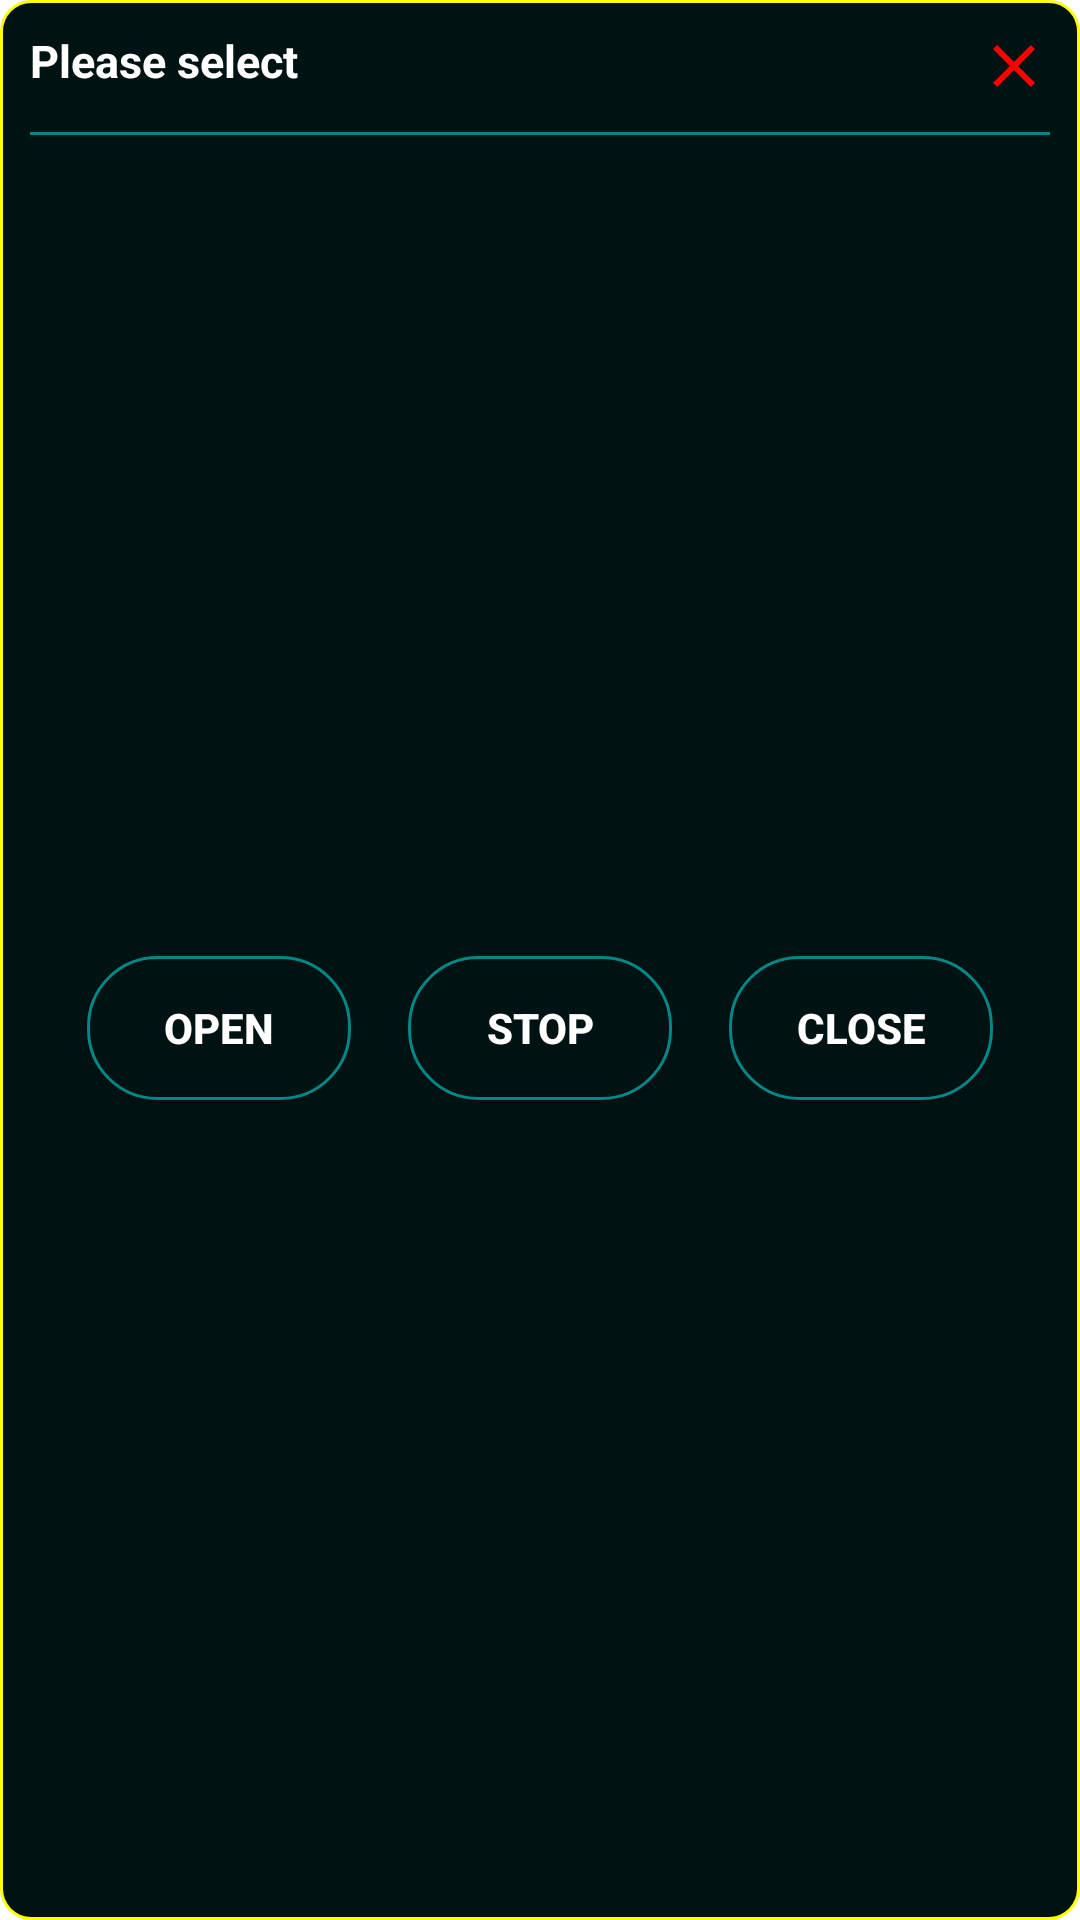

Locate icon controls on the screen. Image size 1080*1920, boxes as (x1, y1, x2, y2).
close: (993, 45, 1035, 87)
